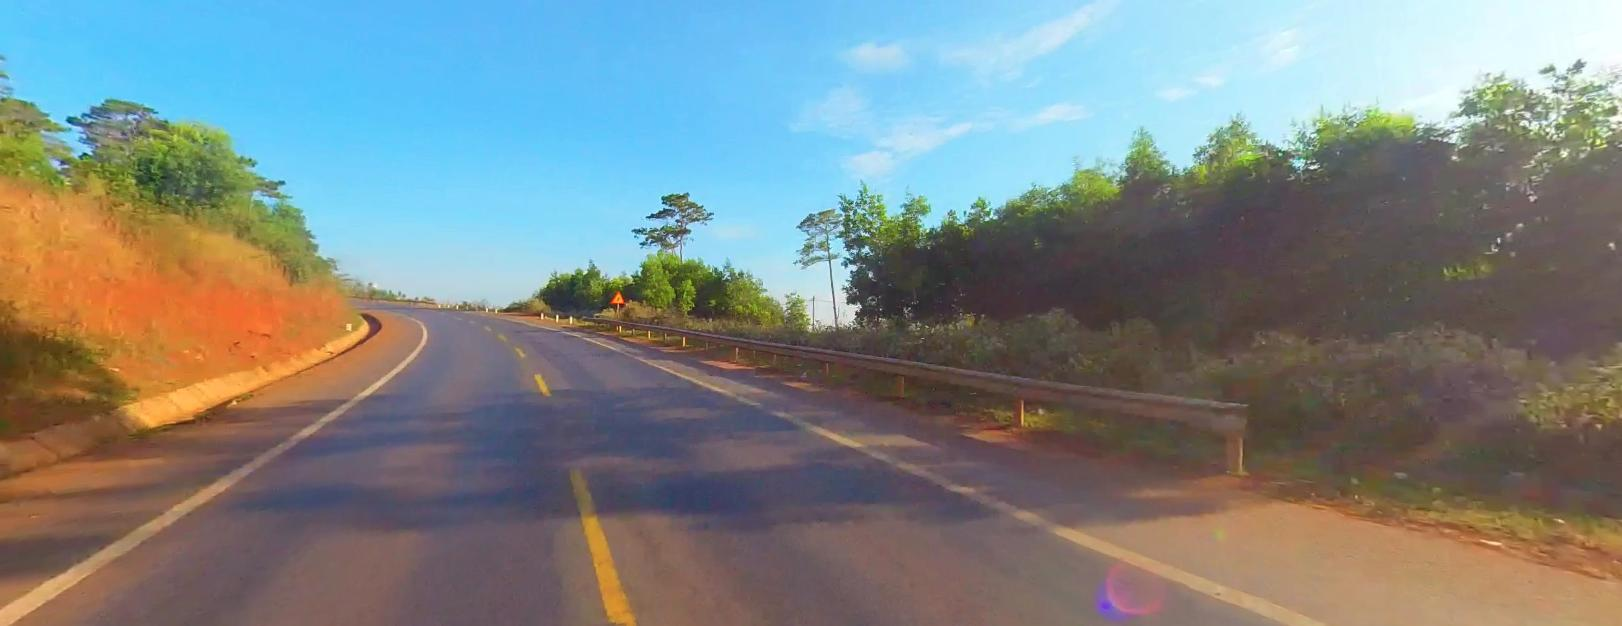Nguy hiem: (609, 289, 625, 303)
